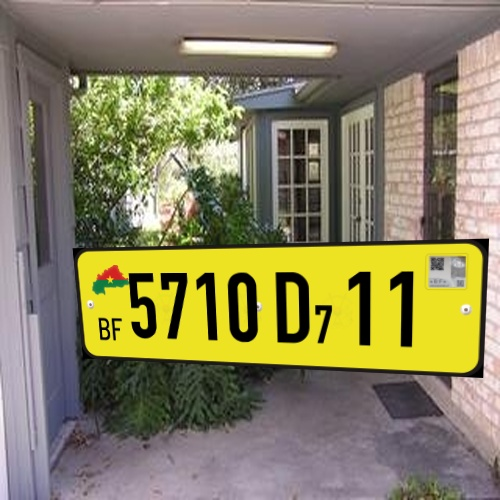plate: (64, 231, 492, 390)
